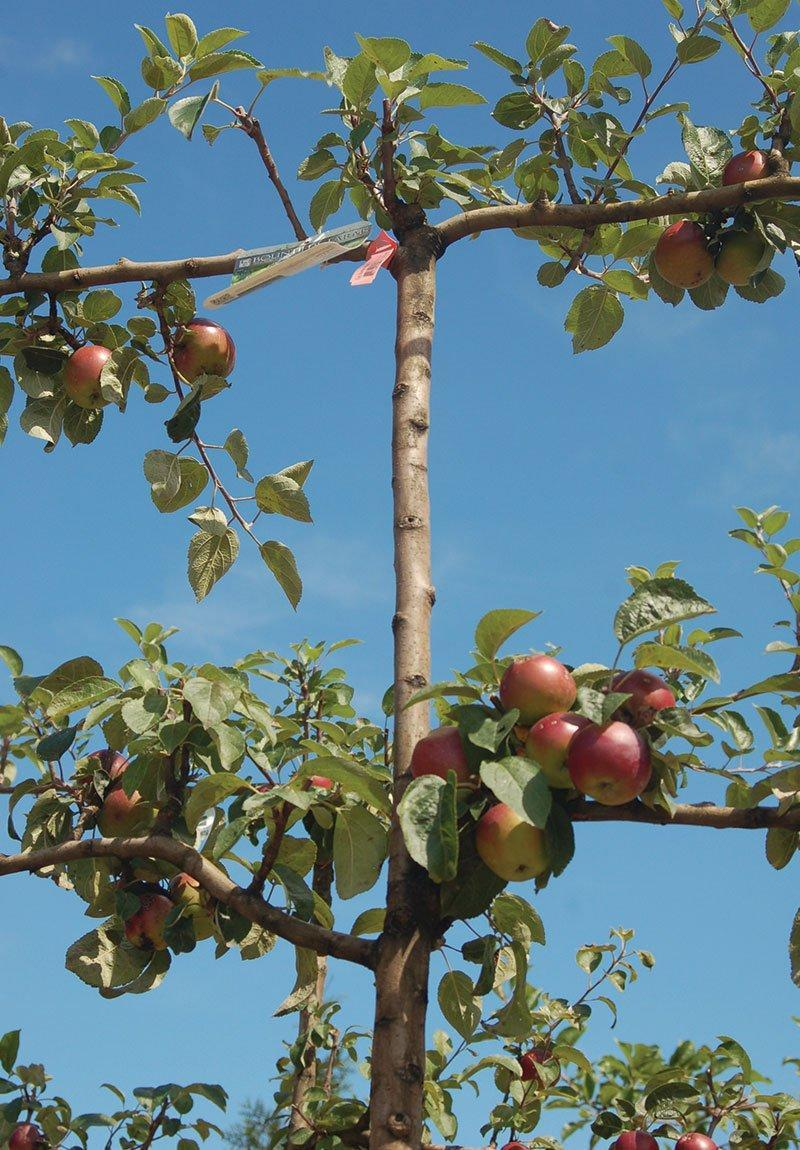apple: (474, 784, 567, 886), (544, 716, 651, 804), (497, 656, 574, 727), (521, 713, 592, 788), (650, 218, 712, 296), (168, 315, 233, 386), (405, 722, 470, 784), (95, 782, 158, 840), (60, 346, 116, 411), (120, 892, 171, 953), (82, 749, 127, 789), (721, 151, 766, 187)
